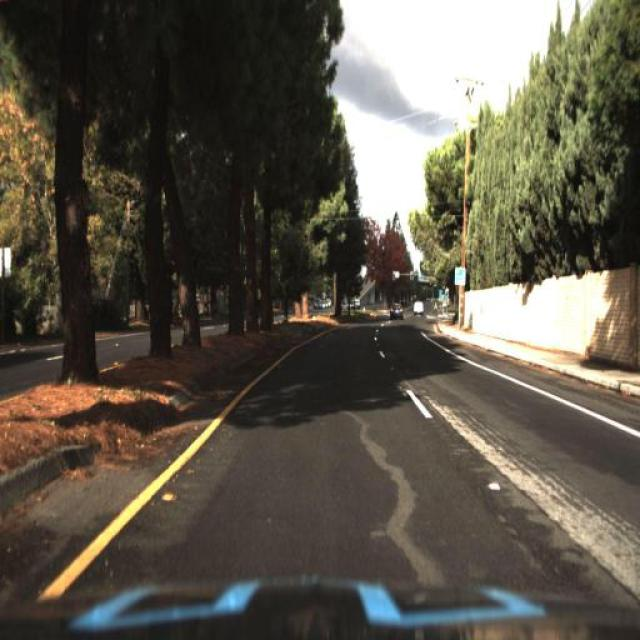car: (409, 291, 427, 320)
